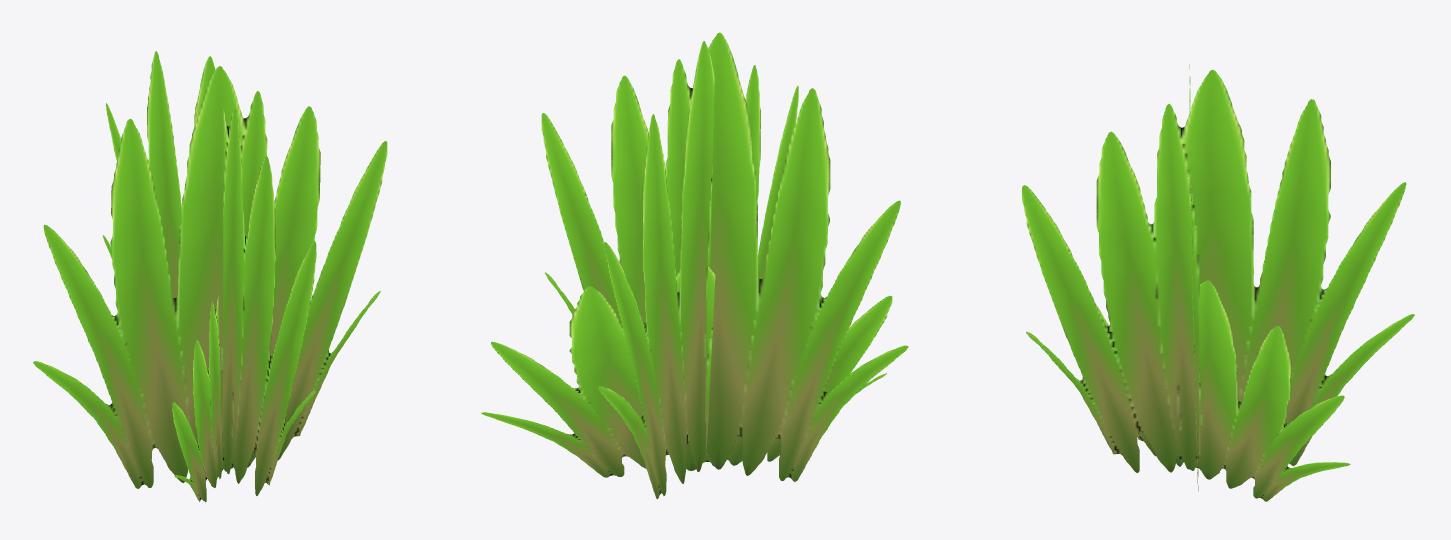
Rendered from SM_F_Grass_01.fbx.
The picture shows the model from 3 angles, left to right: view 1: azimuth 30°, elevation 25°; view 2: azimuth 150°, elevation 25°; view 3: azimuth 270°, elevation 25°; orthographic projection. The views are drawn at different scales.
Visible parts, largest first — view 1: SM_F_Grass_01; view 2: SM_F_Grass_01; view 3: SM_F_Grass_01.
Part boxes in pixels (x1,y1,x2,y2): SM_F_Grass_01: (33, 51, 387, 502); SM_F_Grass_01: (481, 32, 908, 499); SM_F_Grass_01: (1022, 64, 1414, 501).
Bounding box in the file's own units: 37.11 × 37.29 × 37.07.
